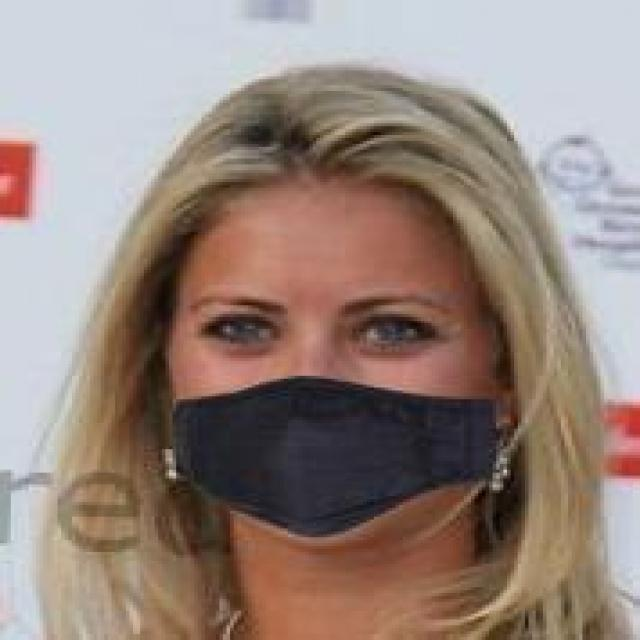mask: (65, 21, 579, 564)
